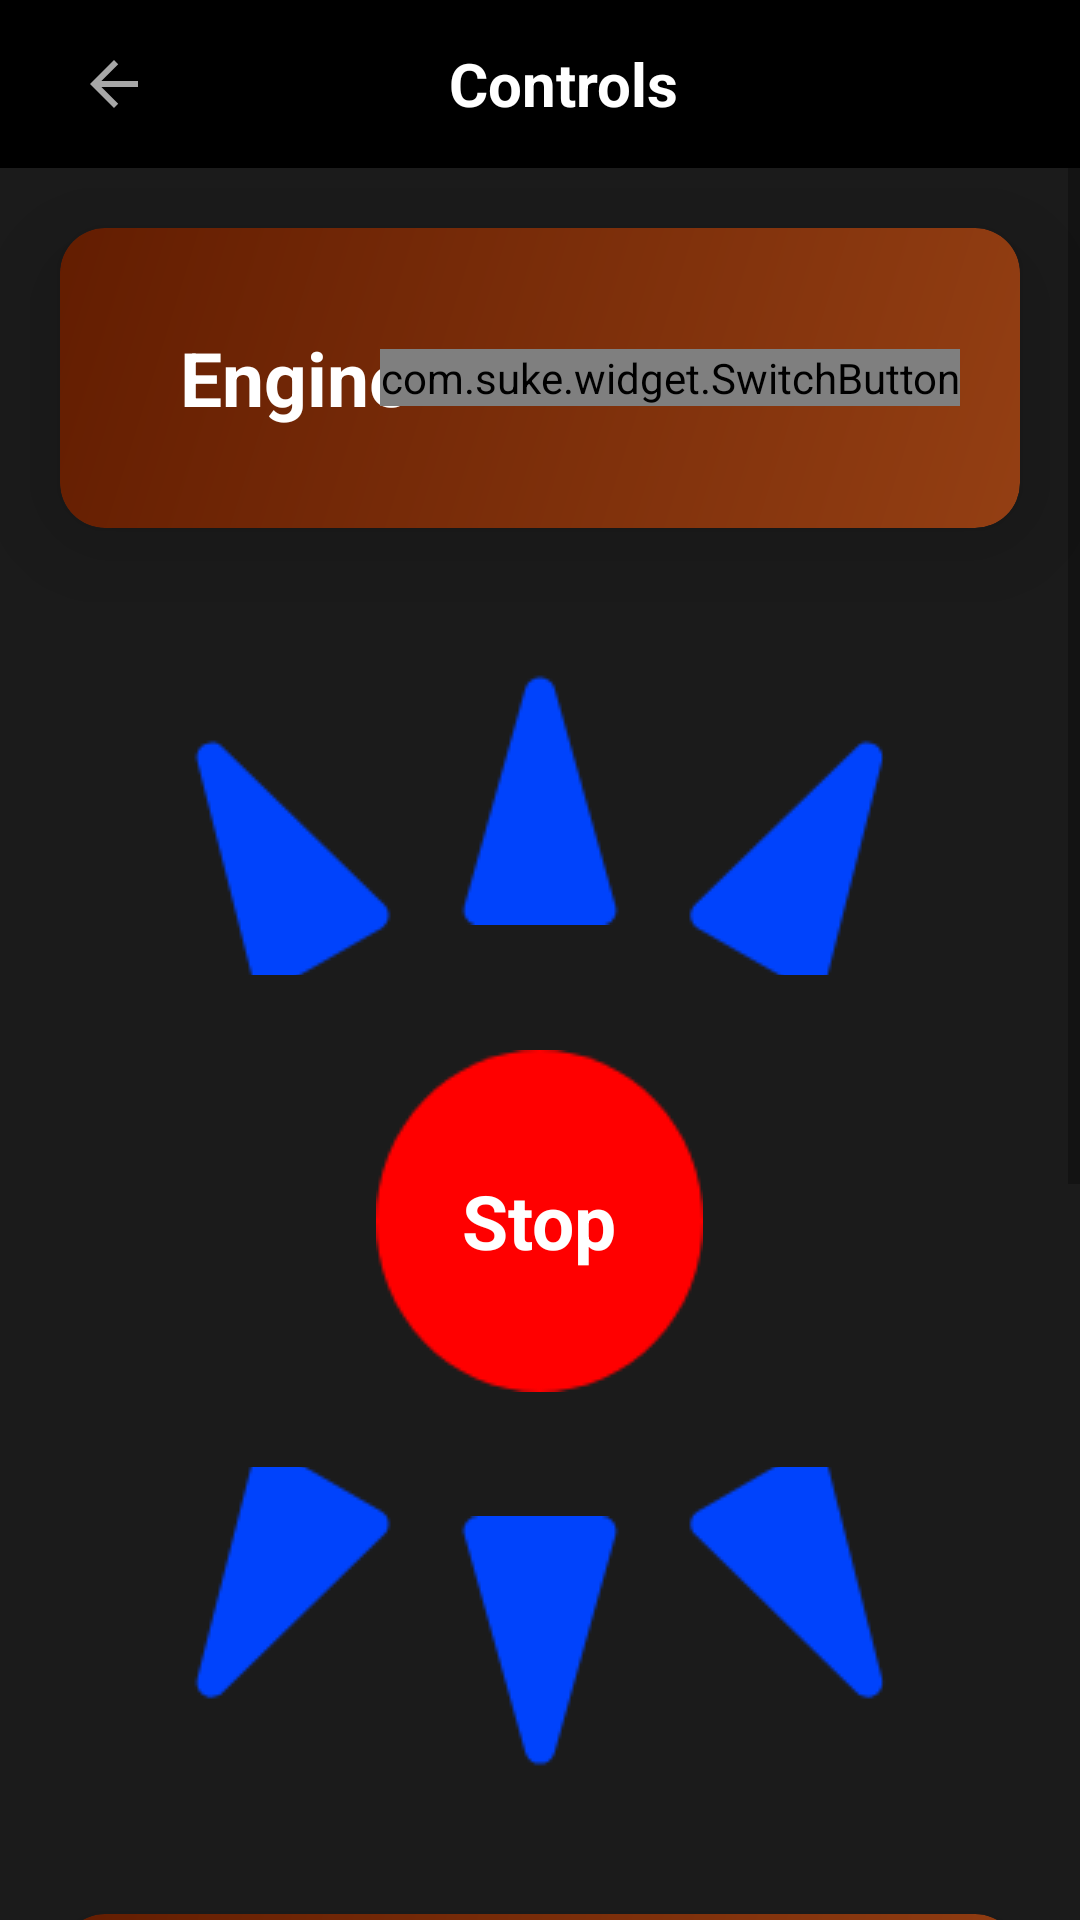

Named icons in this screenshot (1080px x 1920px) and their centers, point (x, y):
back arrow: point (114, 84)
backward: point (539, 1641)
backward left: point (292, 1583)
backward right: point (786, 1583)
forward: point (540, 800)
forward left: point (292, 857)
forward right: point (786, 857)
